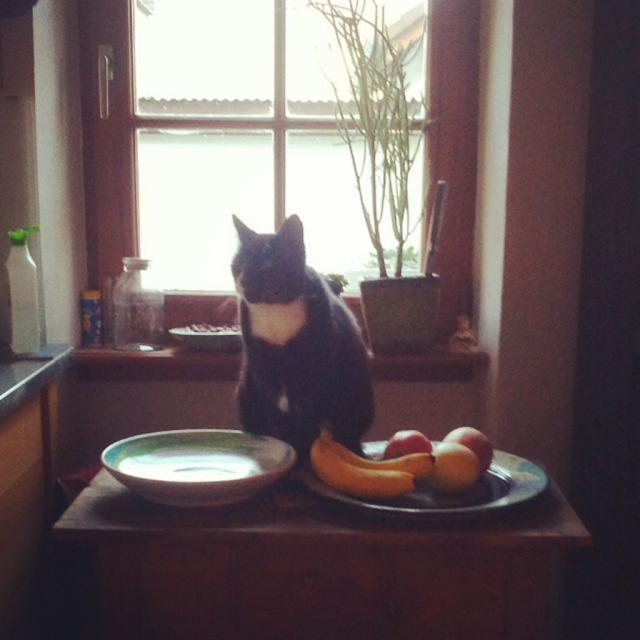Cat: (216, 210, 378, 450)
